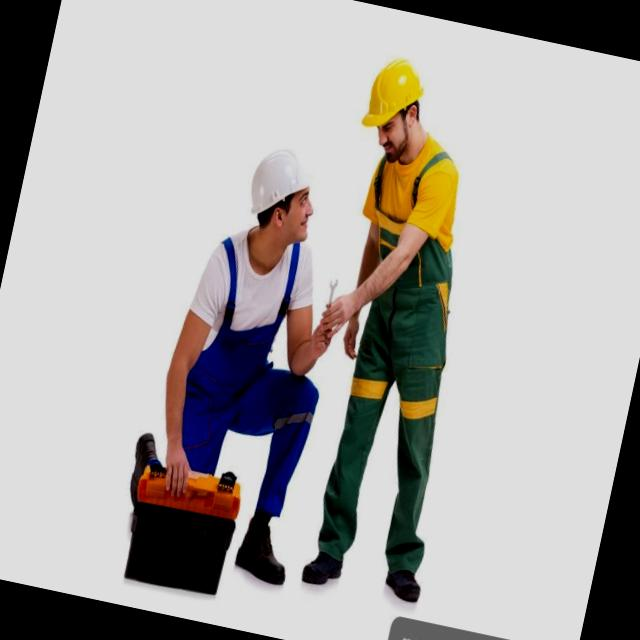helmet: (246, 134, 323, 235), (361, 55, 434, 136)
vest: (178, 226, 310, 419)
